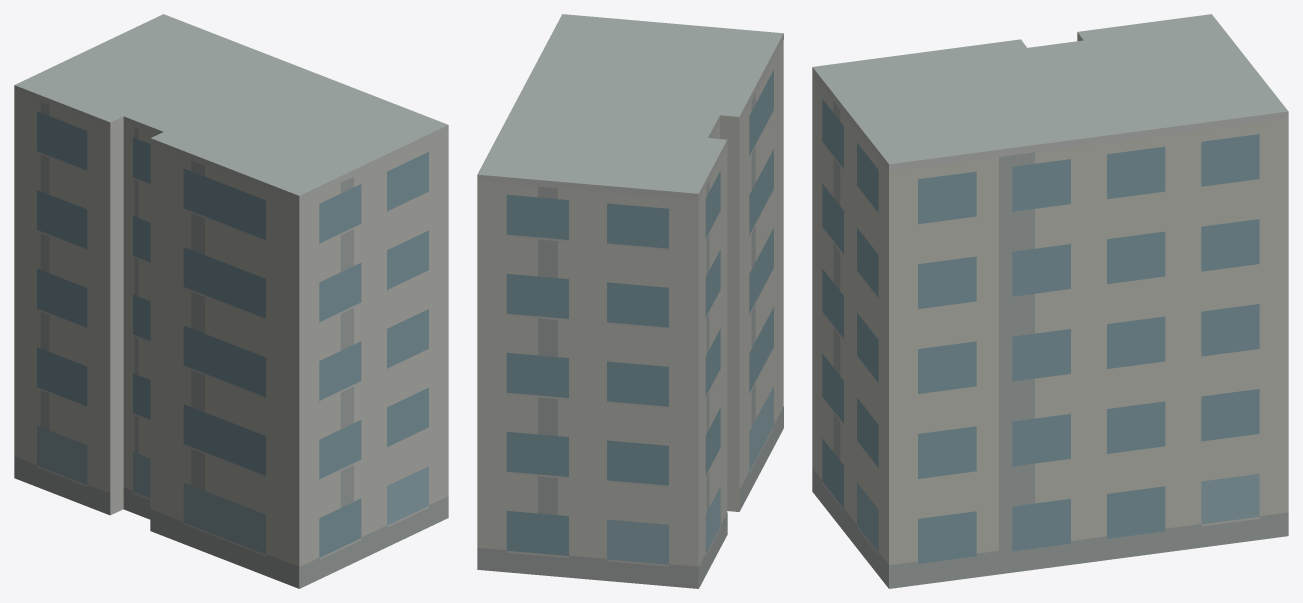
The model's file is survey-upis-32692465.glb.
3 views of the same model, side by side, from view 1: azimuth 30°, elevation 25°; view 2: azimuth 150°, elevation 25°; view 3: azimuth 270°, elevation 25° (orthographic). The views are drawn at different scales.
Parts seen in each view (by area): view 1: survey-upis-32692465.tmp; view 2: survey-upis-32692465.tmp; view 3: survey-upis-32692465.tmp.
Boxes of the visible parts, x1,y1,x2,y2 form: survey-upis-32692465.tmp: (14,14,448,588); survey-upis-32692465.tmp: (477,14,783,588); survey-upis-32692465.tmp: (812,14,1288,588).
Bounding box in the file's own units: 10.86 × 14.3 × 14.54.
